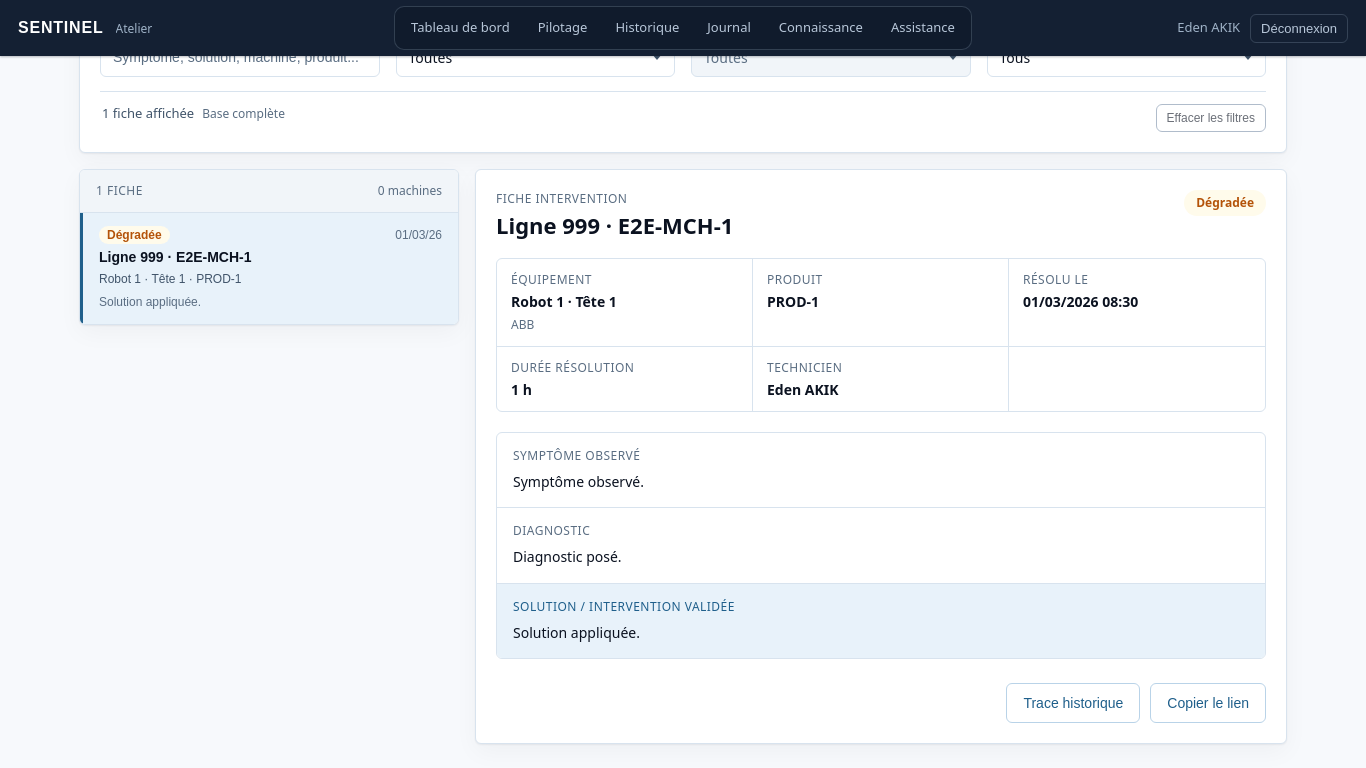
Test: WorkshopKnowledgePage — copie du lien › annonce globalement un rejet du presse-papiers sans faux succès local
(page scrolled)
What coordinates should you click on to do the following:
click the button "Copier le lien"
I would click on:
 (1208, 703)
Its box is 1150,683 -> 1266,723.
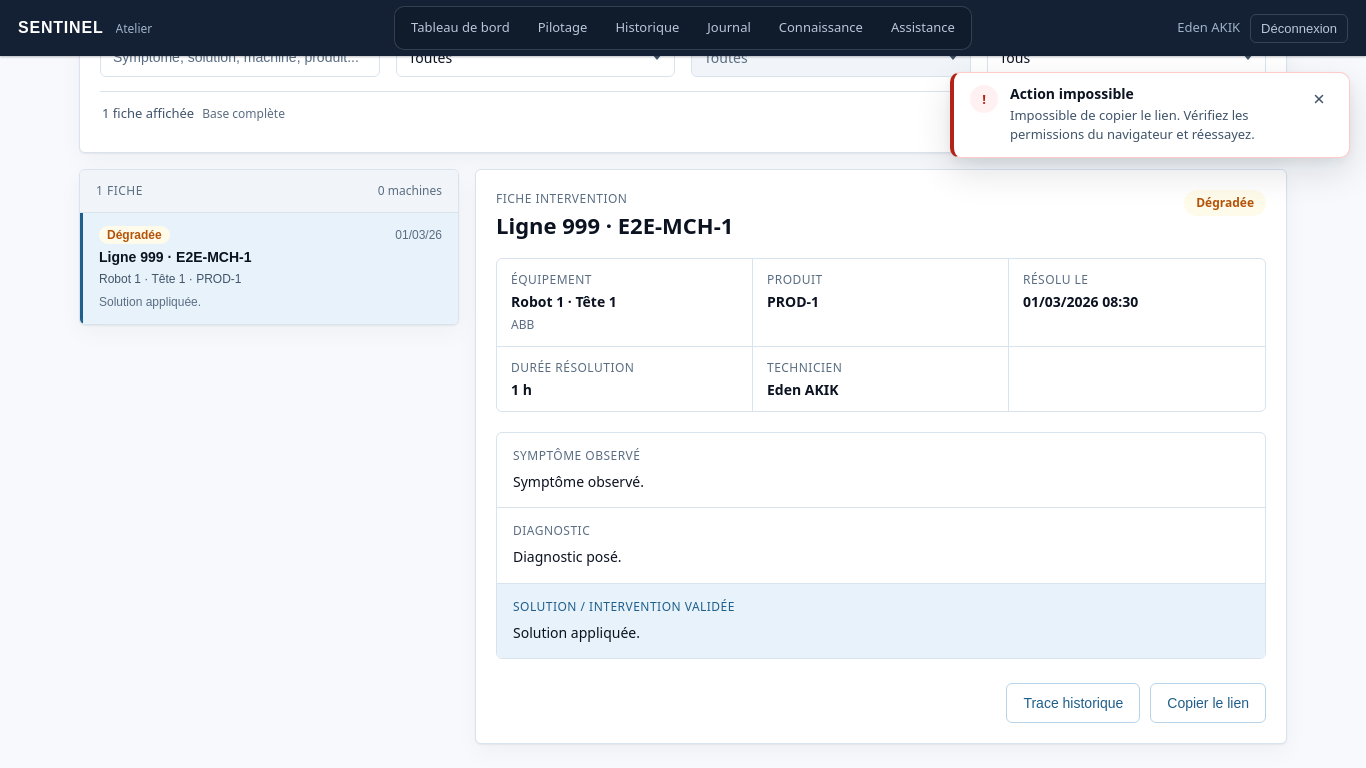
Now the message shows "Action impossible", box 1010,84 -> 1134,103
Now the message shows "Impossible de copier le lien", box 1010,106 -> 1255,143
